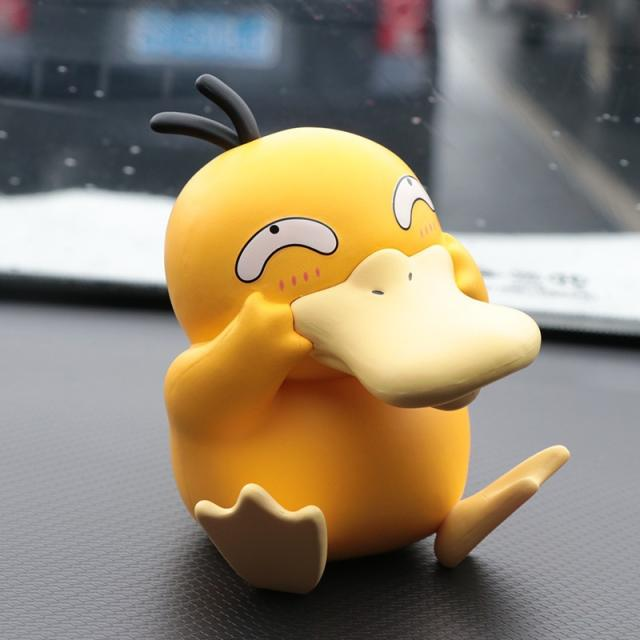Duck: (124, 65, 581, 598)
